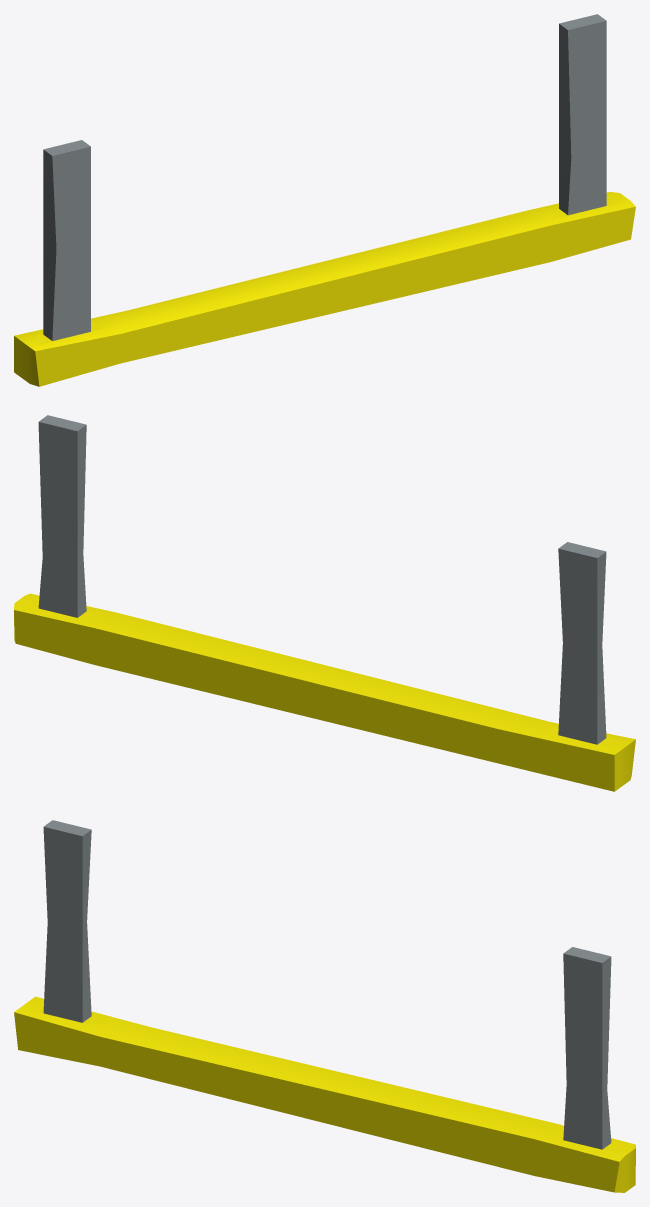
File: Luz2.fbx
3 renders of one model, top to bottom at view 1: azimuth 30°, elevation 25°; view 2: azimuth 150°, elevation 25°; view 3: azimuth 330°, elevation 25°, orthographic.
Visible parts, largest first — view 1: Cube.002; view 2: Cube.002; view 3: Cube.002.
Part boxes in pixels (x1,y1,x2,y2): Cube.002: (14,14,635,386); Cube.002: (14,415,635,791); Cube.002: (14,820,635,1192).
Size of the model in its own units: 374 by 132 by 22.91.
